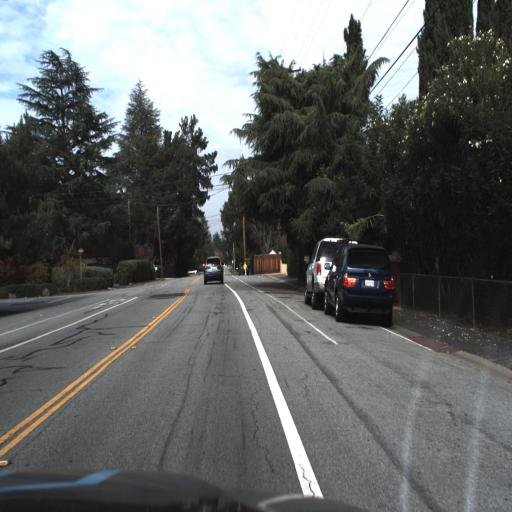car: (320, 235, 399, 333), (321, 237, 396, 326), (299, 236, 329, 314), (197, 247, 228, 292)
